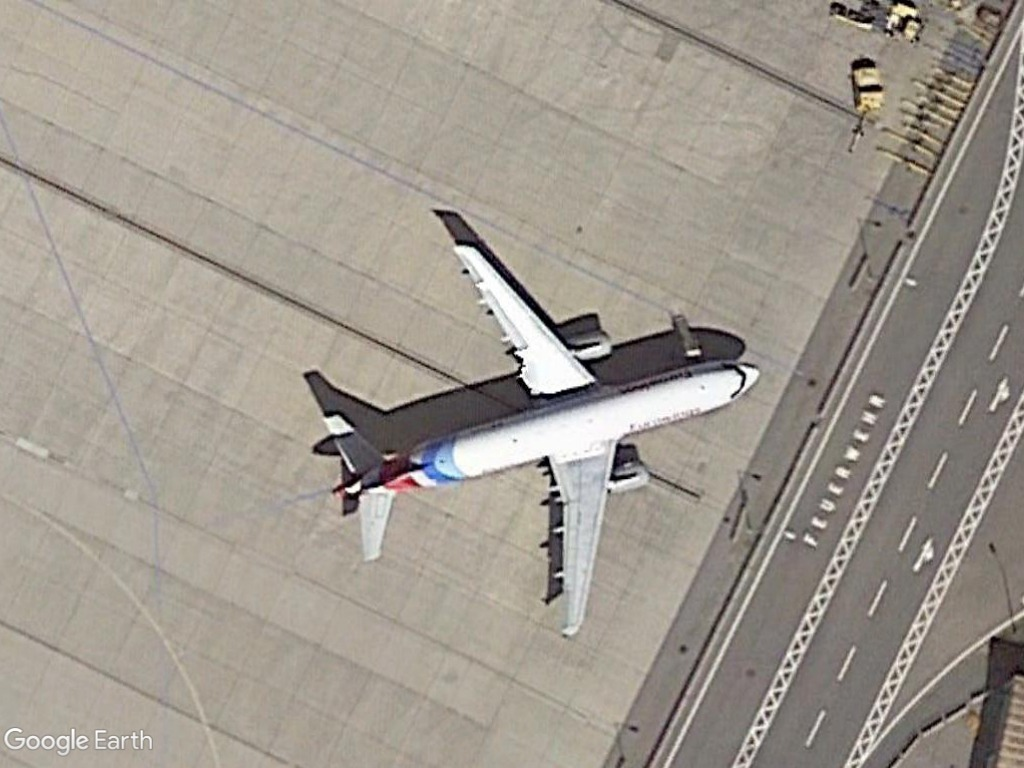airliner: (313, 236, 769, 640)
